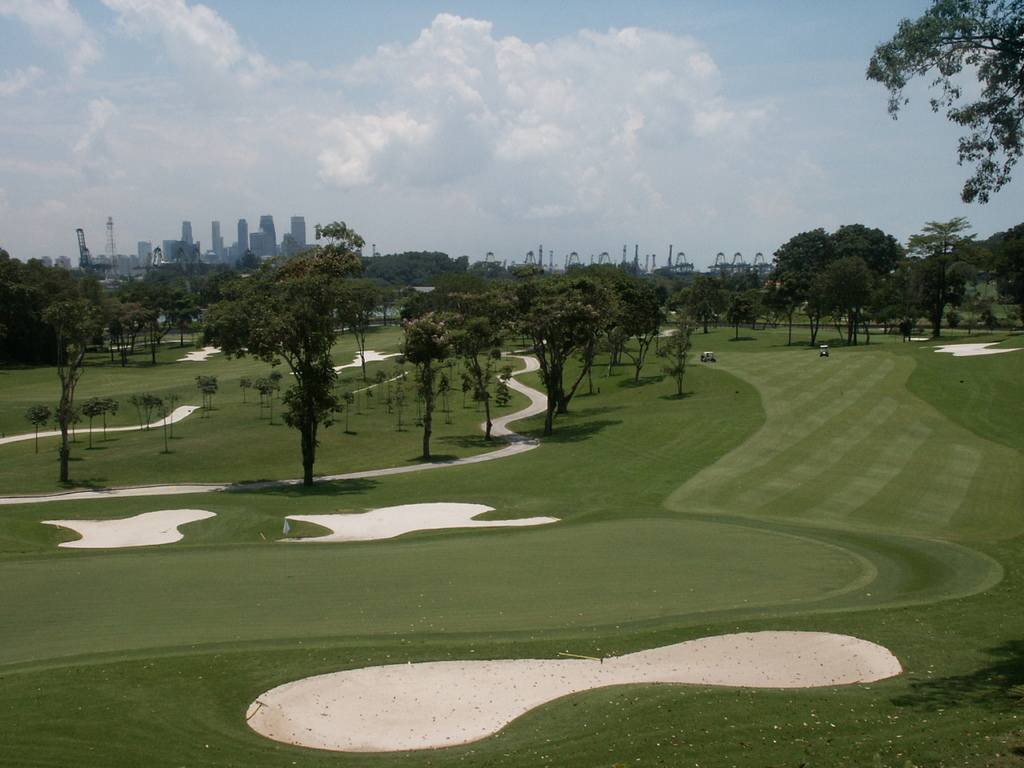Tree: (0, 0, 1024, 486)
